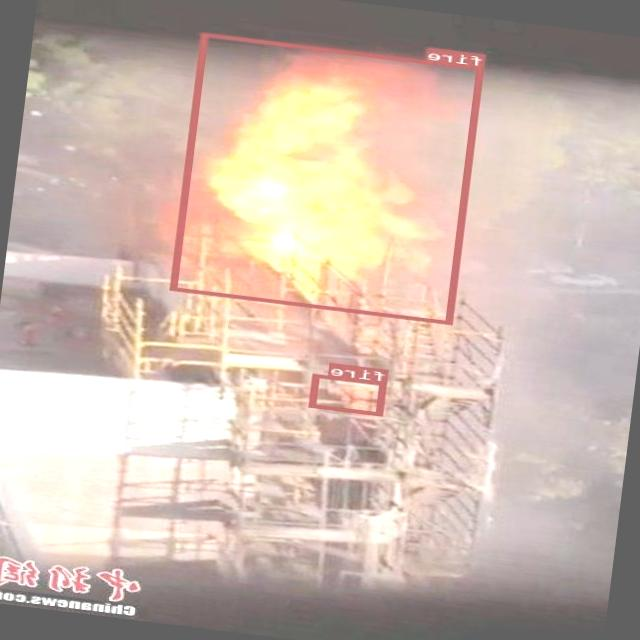fire: (172, 32, 486, 324), (310, 372, 388, 416)
